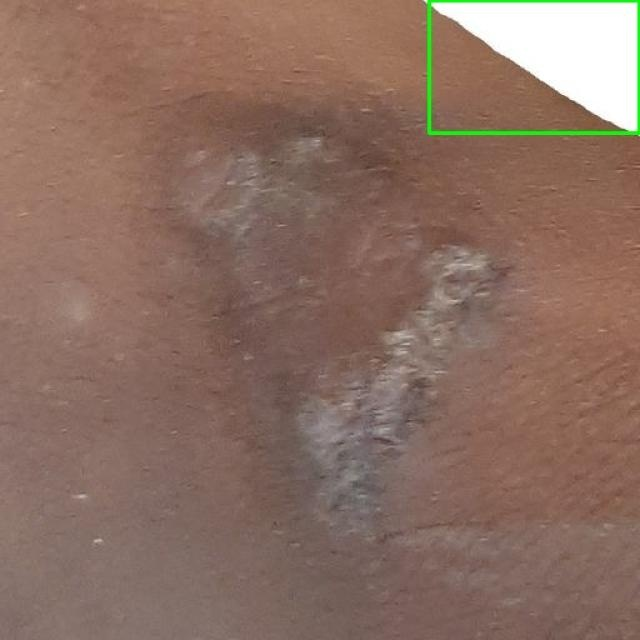Contact Dermatitis: (429, 0, 639, 132)
